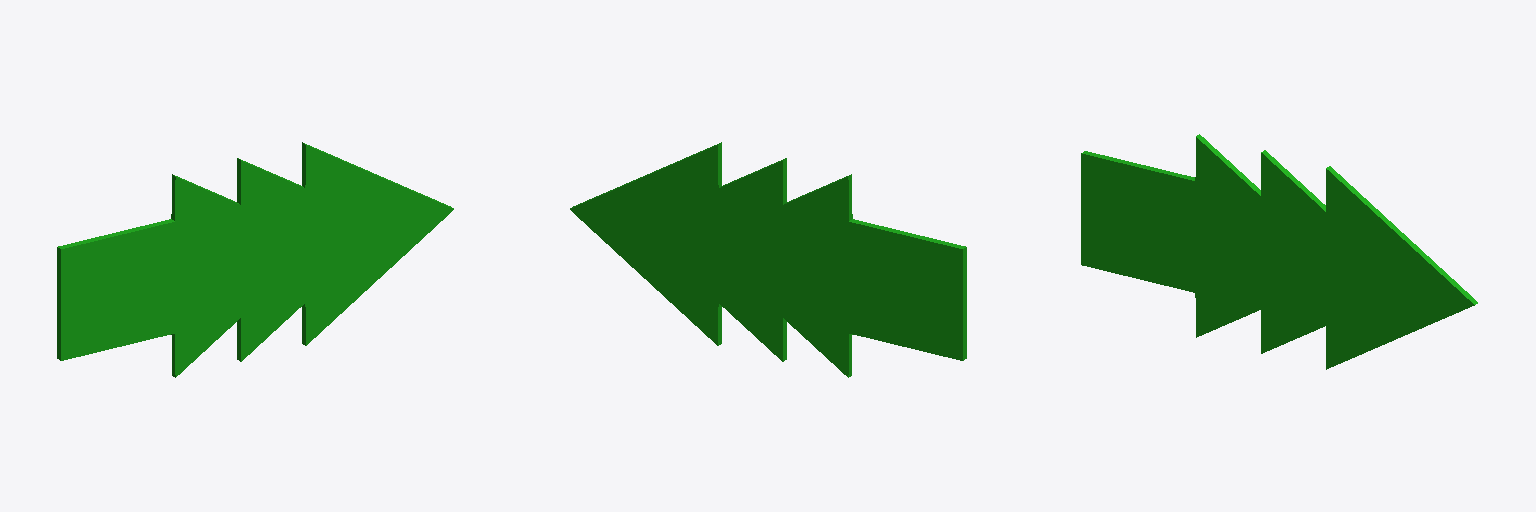
File: Arrow.obj
3 renders of one model, left to right at view 1: azimuth 30°, elevation 25°; view 2: azimuth 150°, elevation 25°; view 3: azimuth 330°, elevation 25°, orthographic.
Parts seen in each view (by area): view 1: Arrow:group3_pasted__group1_pasted__pasted__pCube1; view 2: Arrow:group3_pasted__group1_pasted__pasted__pCube1; view 3: Arrow:group3_pasted__group1_pasted__pasted__pCube1.
Part boxes in pixels (x1,y1,x2,y2): Arrow:group3_pasted__group1_pasted__pasted__pCube1: (57,142,453,377); Arrow:group3_pasted__group1_pasted__pasted__pCube1: (570,142,966,377); Arrow:group3_pasted__group1_pasted__pasted__pCube1: (1081,134,1477,369).
Size of the model in its own units: 3.45 by 1.69 by 0.0562.